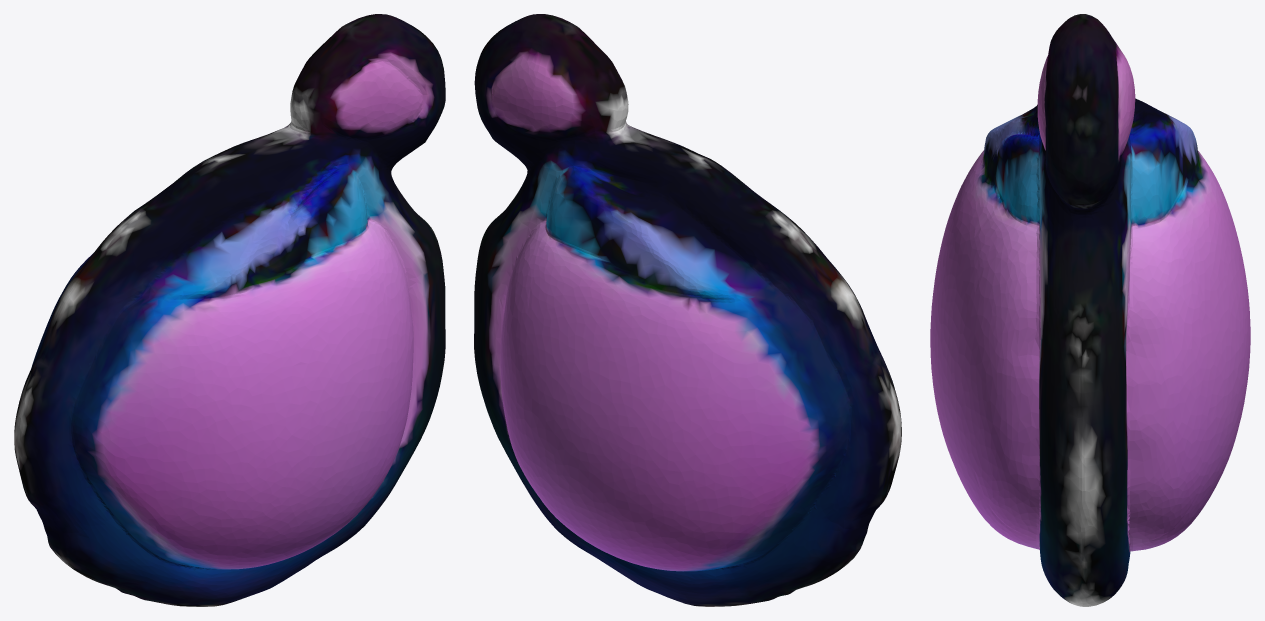
File: potion_heal2.glb
3 renders of one model, left to right at view 1: azimuth 30°, elevation 25°; view 2: azimuth 150°, elevation 25°; view 3: azimuth 270°, elevation 25°, orthographic. The views are drawn at different scales.
Visible parts, largest first — view 1: geometry_0; view 2: geometry_0; view 3: geometry_0.
Boxes of the visible parts, x1=… form: geometry_0: x1=14, y1=14, x2=445, y2=606; geometry_0: x1=474, y1=14, x2=901, y2=606; geometry_0: x1=930, y1=14, x2=1250, y2=606.
Size of the model in its own units: 0.375 by 0.4651 by 0.21.
